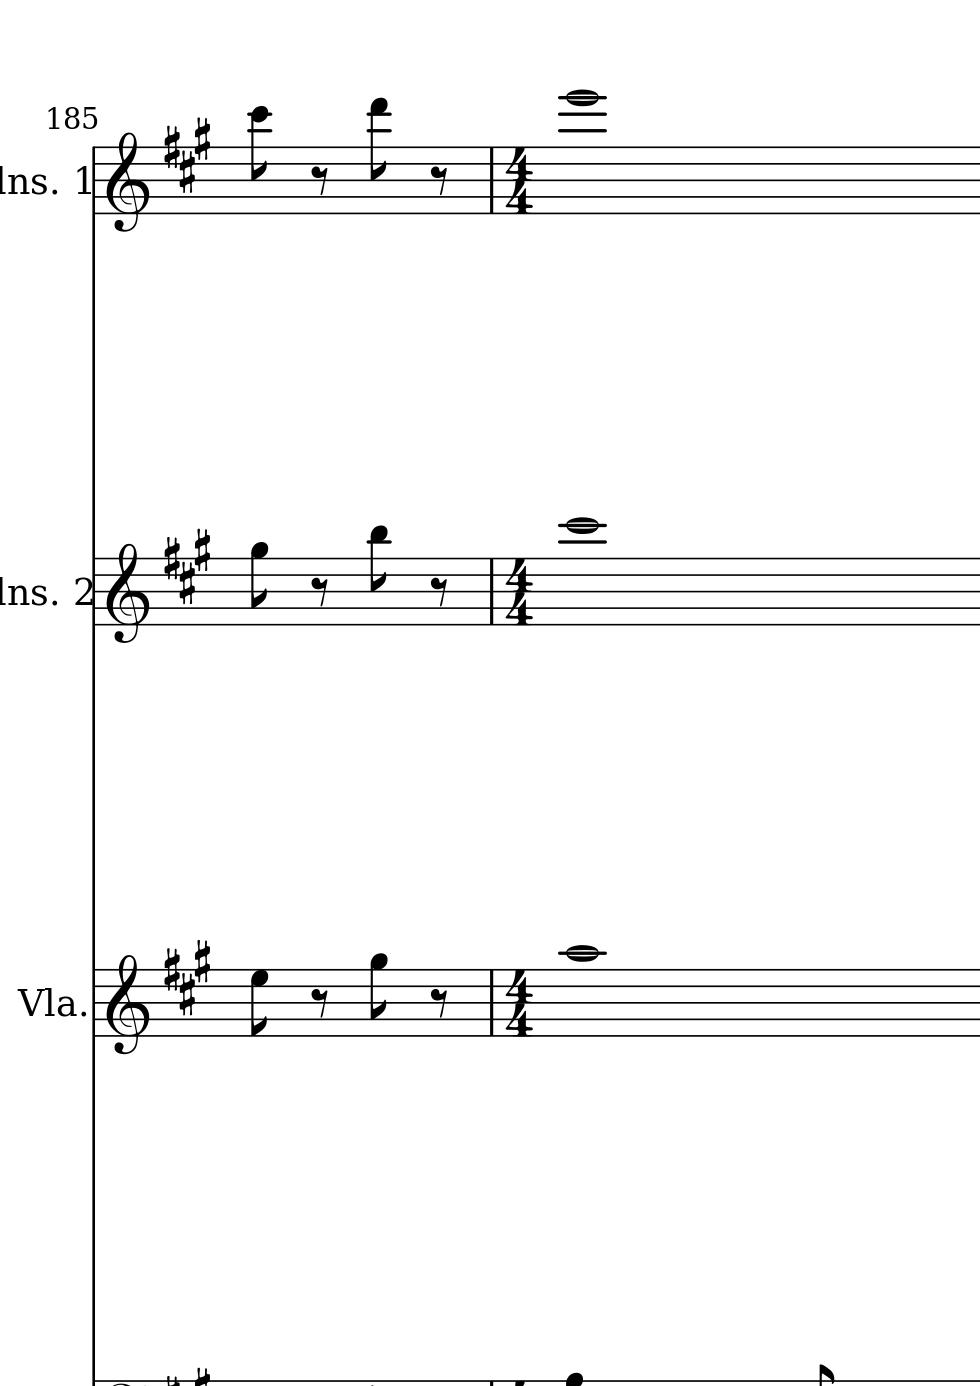1: (47, 104, 60, 131)
1_10: (564, 945, 599, 1039)
1_12: (561, 517, 601, 628)
1_14: (559, 86, 607, 216)
4: (503, 557, 533, 594), (503, 146, 533, 181), (505, 968, 535, 1003), (504, 1002, 533, 1037), (505, 180, 535, 214), (505, 592, 533, 626)
5: (81, 103, 98, 131)
8: (62, 104, 80, 131)
8_11: (366, 525, 391, 629)
8_12: (248, 105, 273, 217)
8_13: (366, 98, 393, 216)
8_7: (248, 968, 270, 1039)
8_9: (367, 952, 389, 1039), (248, 542, 269, 628)
A_S: (160, 116, 213, 194), (160, 526, 213, 604), (160, 938, 213, 1015)
Gclef: (104, 130, 152, 235), (104, 541, 150, 646), (105, 952, 150, 1056)
Rests8: (428, 575, 451, 609), (309, 986, 331, 1020), (428, 986, 451, 1020), (308, 163, 330, 196), (428, 163, 451, 196), (308, 574, 330, 607)
Single_barline: (482, 147, 498, 214), (482, 558, 498, 625), (482, 969, 498, 1035), (89, 557, 103, 627), (88, 146, 102, 215), (87, 969, 101, 1038)
TimeSig: (503, 557, 535, 627), (503, 146, 535, 215), (503, 969, 535, 1037)
Vla: (17, 981, 78, 1025)
